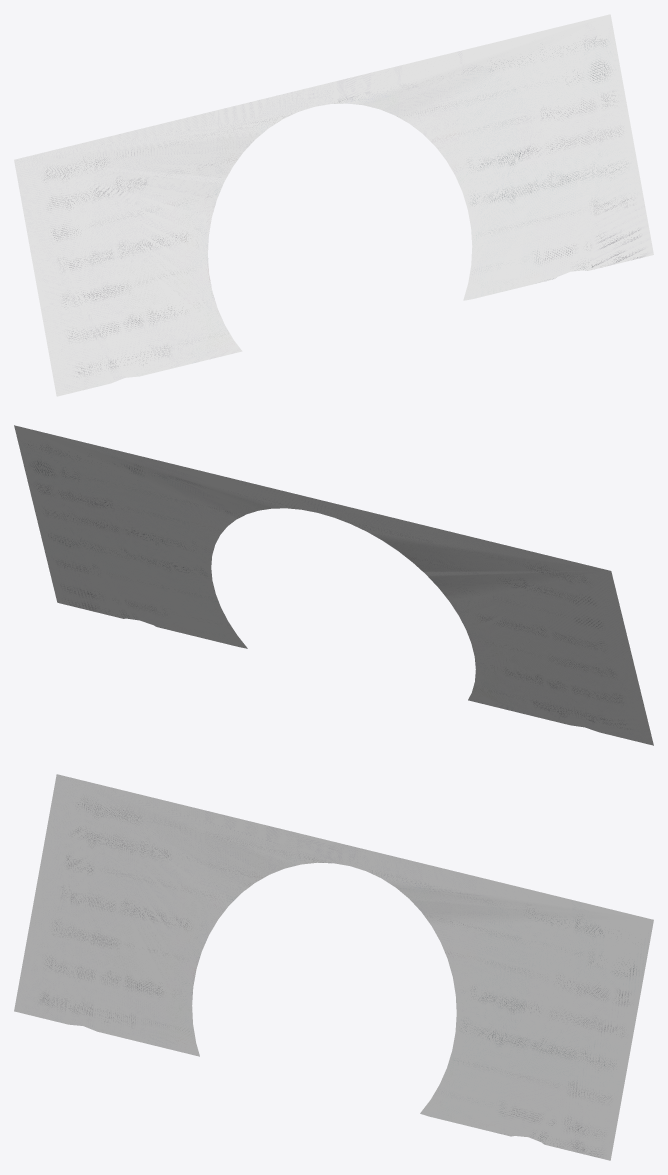
The model's file is original-114.obj.
3 views of the same model, one above another, from view 1: azimuth 30°, elevation 25°; view 2: azimuth 150°, elevation 25°; view 3: azimuth 330°, elevation 25° (orthographic).
Parts seen in each view (by area): view 1: #ID839; view 2: #ID839; view 3: #ID839.
Part boxes in pixels (x1=…): #ID839: x1=14, y1=14, x2=653, y2=396; #ID839: x1=14, y1=425, x2=653, y2=745; #ID839: x1=14, y1=774, x2=653, y2=1160.
Bounding box in the file's own units: 0.2676 × 0.0896 × 0.0336.
Materials: 2 (1 with a texture image).
